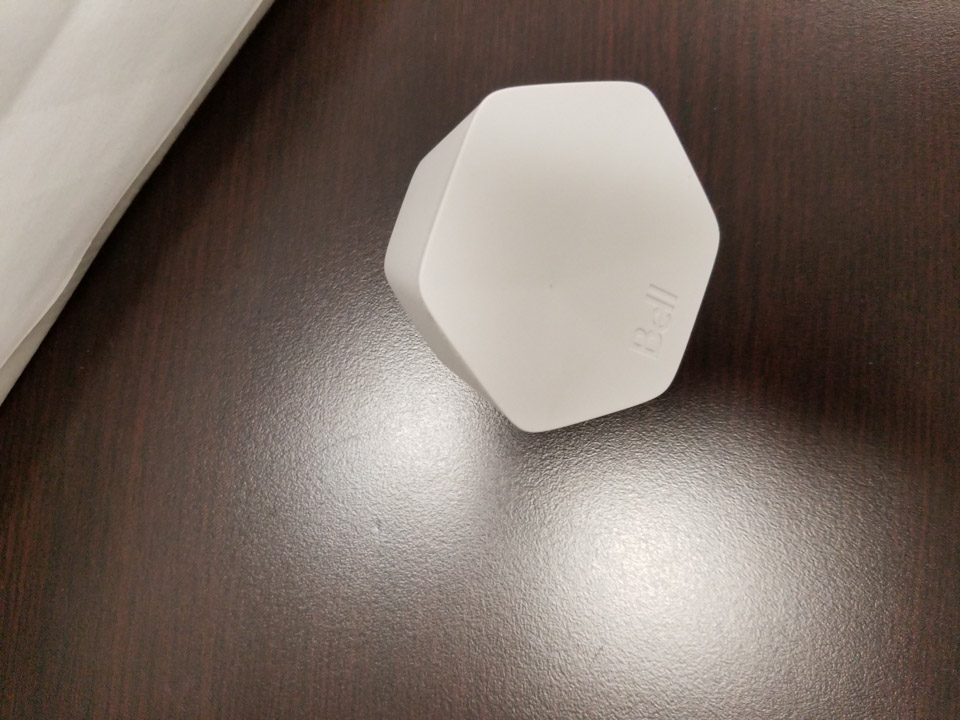pod: (372, 72, 731, 439)
